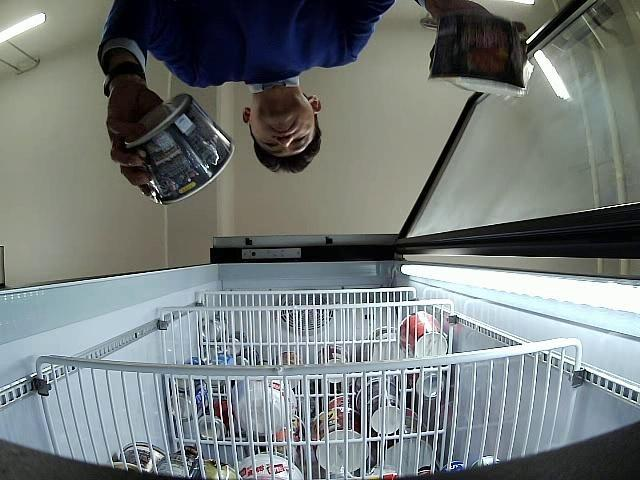07_buldak_L: (126, 95, 234, 204), (428, 15, 527, 96)
